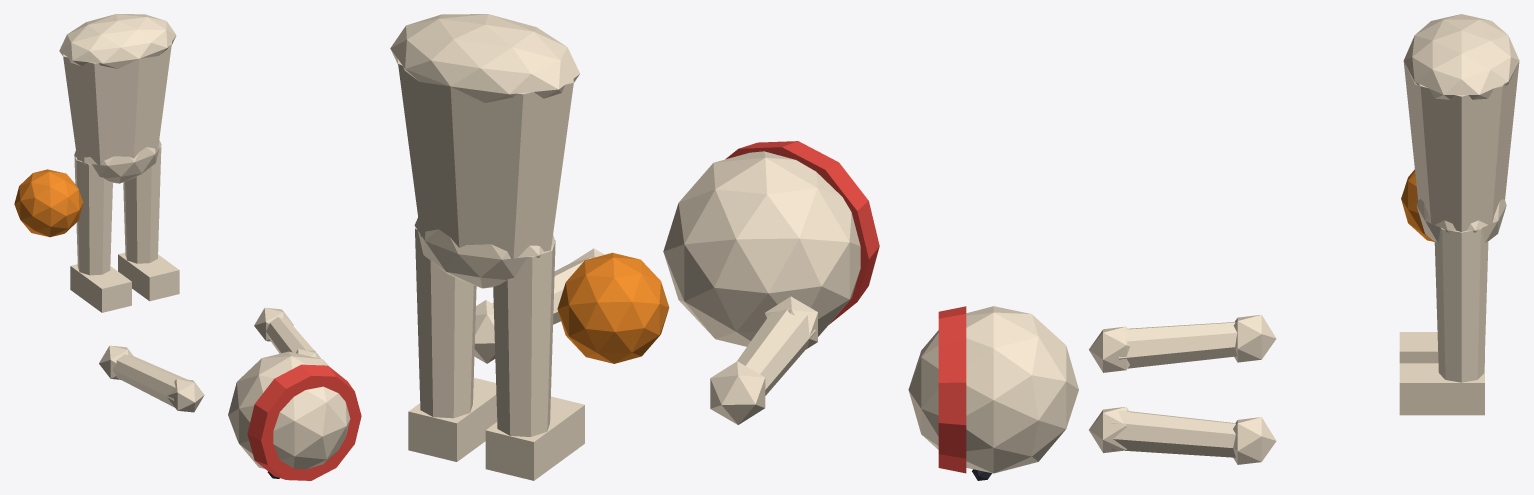
File: athlete_basket.fbx
3 views of the same model, side by side, from view 1: azimuth 30°, elevation 25°; view 2: azimuth 150°, elevation 25°; view 3: azimuth 270°, elevation 25° (orthographic). The views are drawn at different scales.
Visible parts, largest first — view 1: Torso, Head, LegR, LegL, Item, ArmR, ArmL; view 2: Torso, Head, LegR, LegL, Item, ArmR, ArmL; view 3: Head, Torso, LegL, ArmL, ArmR, LegR, Item.
Part boxes in pixels (x1,y1,x2,y2): Torso: [59, 14, 176, 183]; Head: [228, 351, 361, 480]; LegR: [70, 154, 131, 312]; LegL: [118, 146, 179, 301]; Item: [14, 169, 83, 237]; ArmR: [99, 345, 204, 412]; ArmL: [254, 307, 320, 358]; Torso: [390, 14, 579, 288]; Head: [663, 141, 879, 346]; LegR: [485, 240, 584, 480]; LegL: [408, 227, 497, 461]; Item: [557, 252, 669, 363]; ArmR: [710, 296, 817, 424]; ArmL: [474, 248, 604, 363]; Head: [908, 306, 1078, 480]; Torso: [1403, 14, 1519, 242]; LegL: [1399, 228, 1488, 415]; ArmL: [1089, 406, 1276, 464]; ArmR: [1089, 314, 1276, 372]; LegR: [1399, 332, 1484, 363]; Item: [1401, 169, 1434, 241].
Size of the model in its own units: 1.11 by 1.75 by 2.22.
